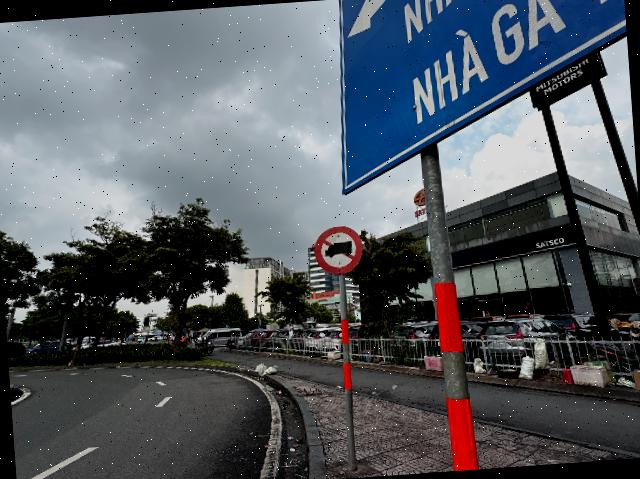cam-xe-tai: (312, 224, 364, 276)
